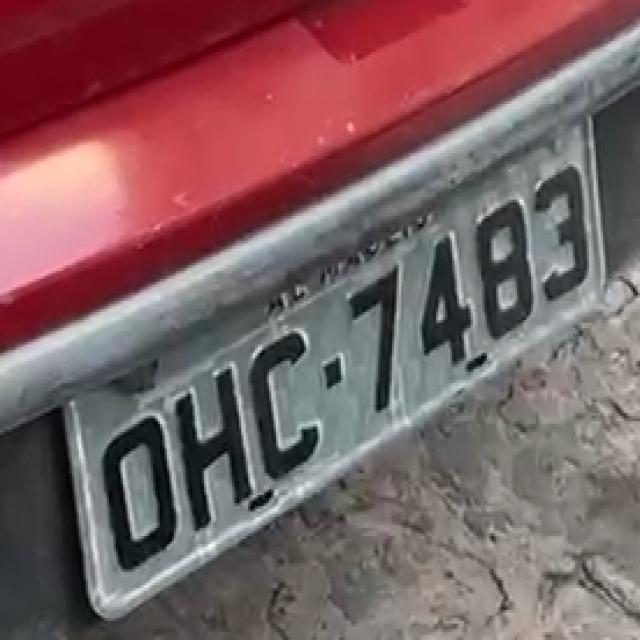Placa_mercosul_carro: (72, 121, 599, 607)
